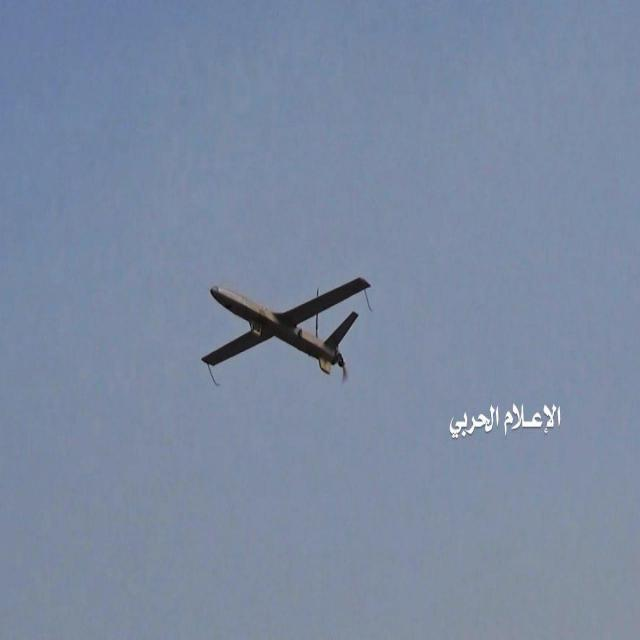iha: (206, 256, 378, 387)
